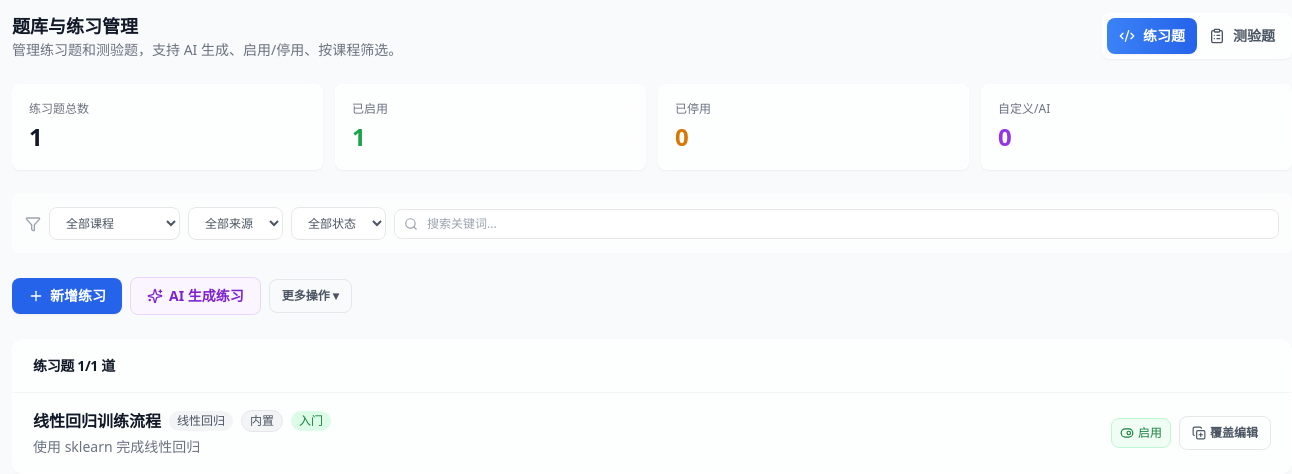
Test: AdminQuestionPanel › 筛选功能 › 清除筛选按钮出现和点击
The width and height of the screenshot is (1292, 474).
Select "K近邻" in the 1st dropdown showing "全部课程" at (114, 224), box [49,207,180,240]
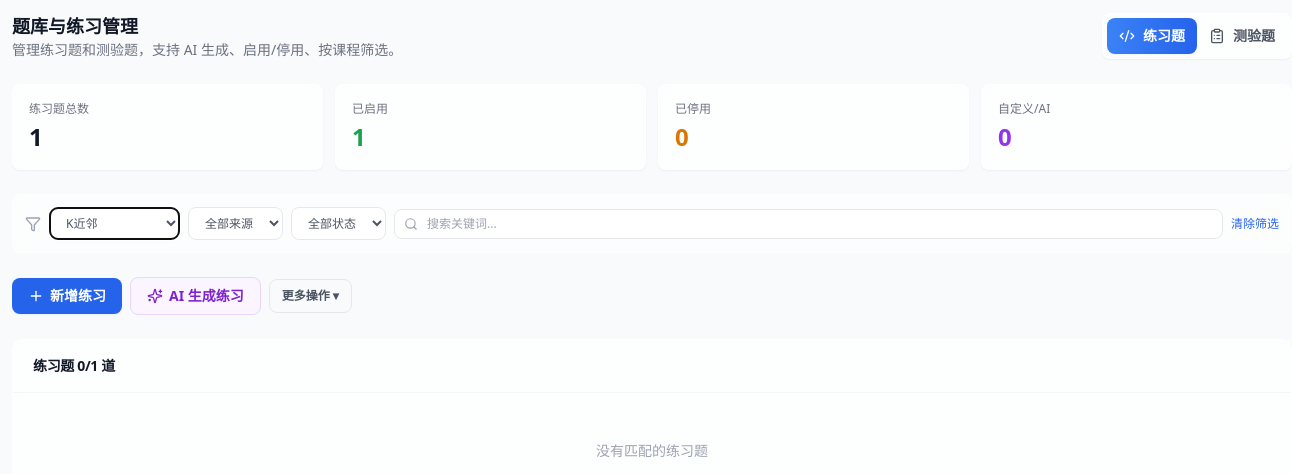
Expected: the button "清除筛选" is shown
Click the button "清除筛选" at (1255, 224), box [1231,216,1279,232]
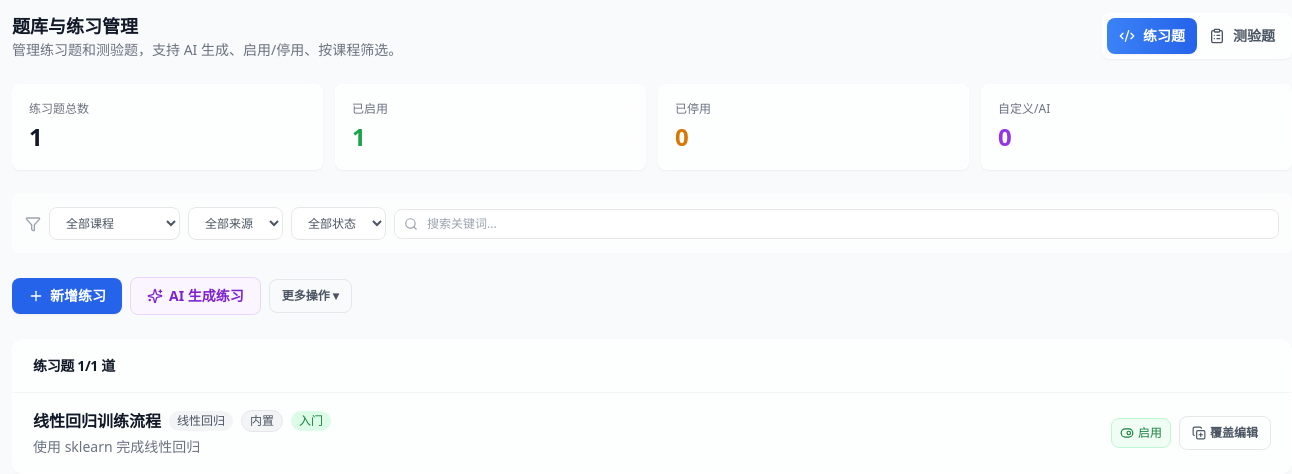
Expected: the text "线性回归训练流程" is shown, [33,409,161,433]
